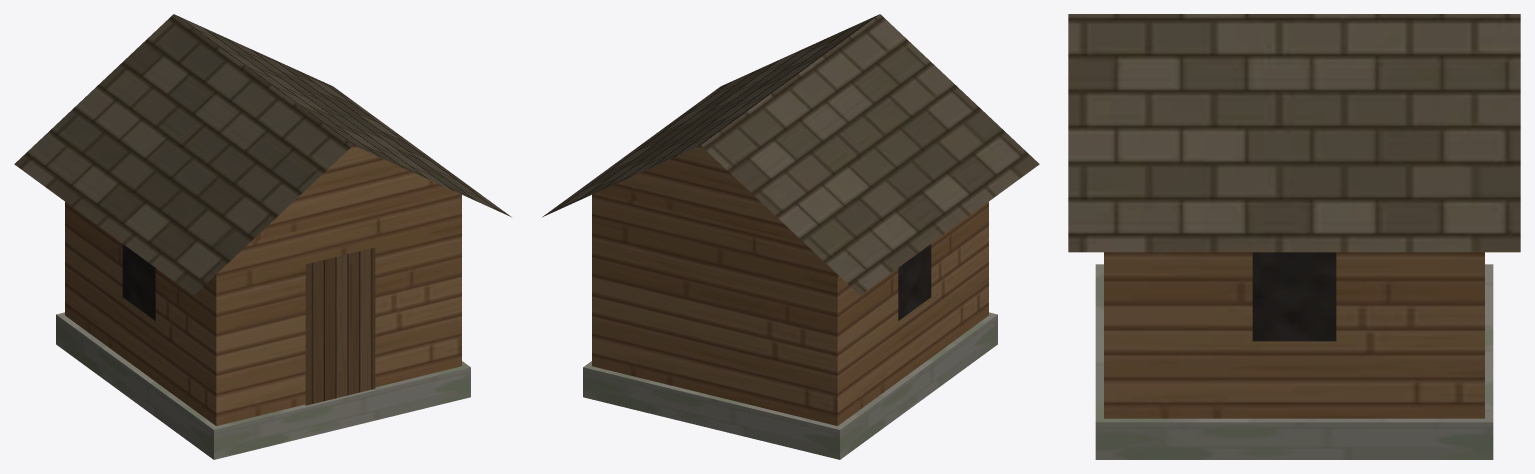
File: ae_forest_wood_small_hut_lod2.glb
3 renders of one model, left to right at view 1: azimuth 30°, elevation 25°; view 2: azimuth 150°, elevation 25°; view 3: azimuth 270°, elevation 25°, orthographic. The views are drawn at different scales.
Visible parts, largest first — view 1: ae_forest_wood_small_hut_lod2; view 2: ae_forest_wood_small_hut_lod2; view 3: ae_forest_wood_small_hut_lod2.
Boxes of the visible parts, x1,y1,x2,y2 form: ae_forest_wood_small_hut_lod2: (14,14,511,459); ae_forest_wood_small_hut_lod2: (542,14,1039,459); ae_forest_wood_small_hut_lod2: (1068,14,1520,459).
Size of the model in its own units: 3.9 by 3.4 by 3.8.
Materials: 1 (1 with a texture image).
